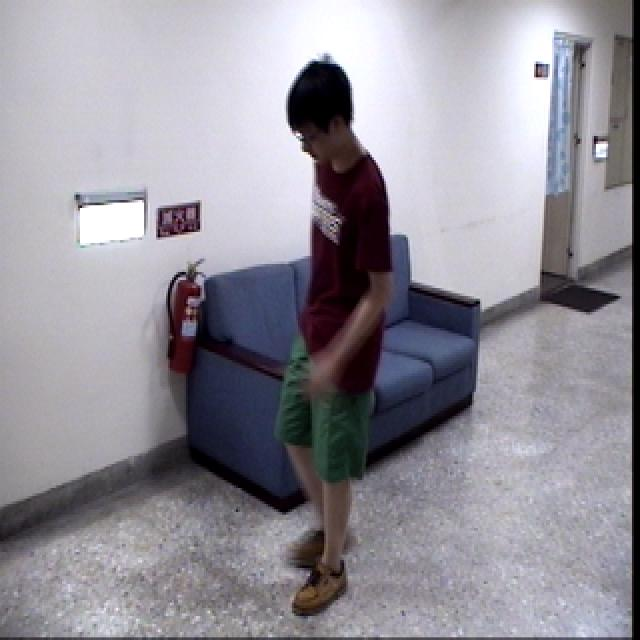stand: (257, 51, 399, 616)
